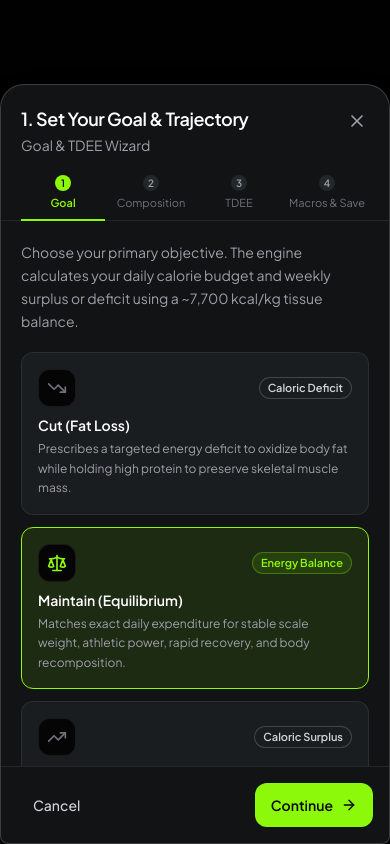
NutritionGoalWizard: sex selection matches the stored value › a stored male profile is displayed as that value
Step 1. Click the button "Continue" → (314, 805), box [255,783,373,827]
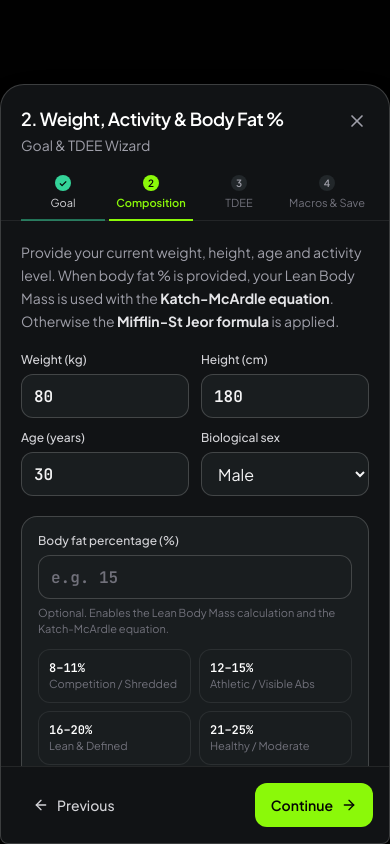
Now the dropdown named "Biological Sex" shows "Male", box [201,452,369,496]
